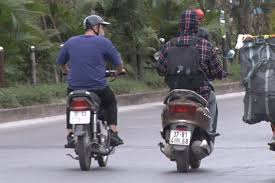Bien-so: (169, 129, 191, 145), (69, 110, 90, 125)
